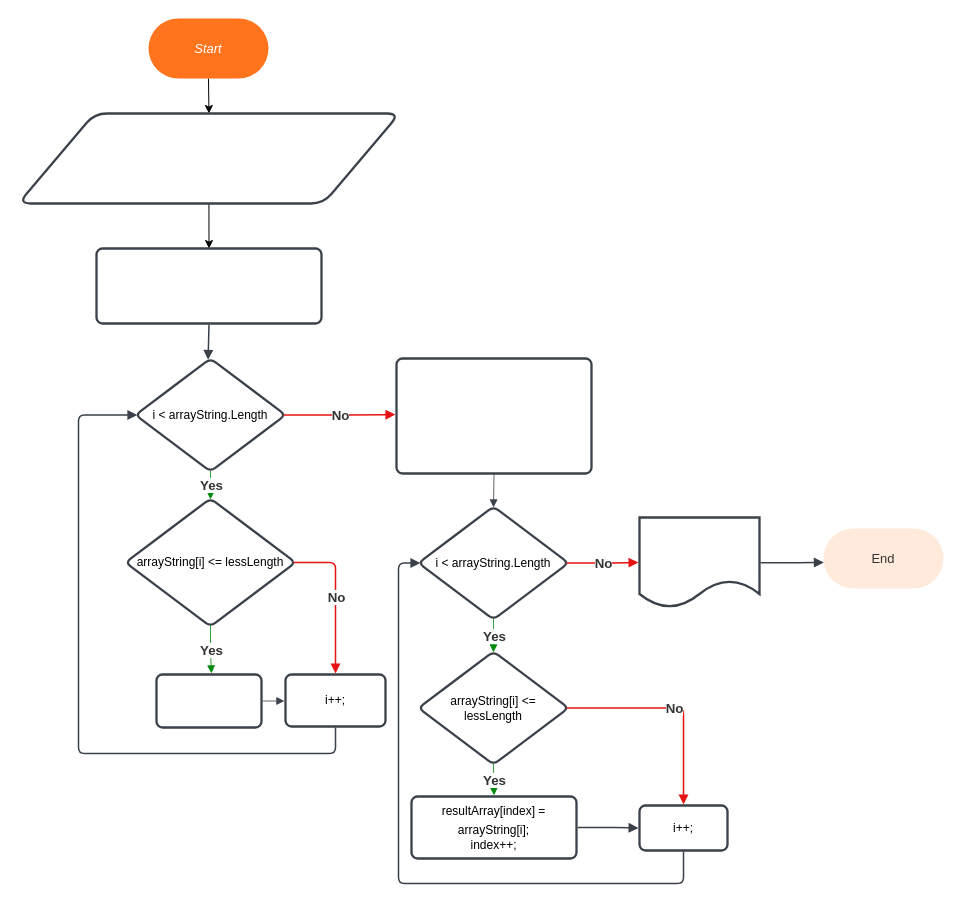
This 962x909 diagram has some shape labels left out. The shapes that lost their labels are listed below. From the top down, each one's centre as x and y in pixels, then its label:
(208,158): string[] arrayString = {"hello", "2", "world", ":-)",":-("}; int lessLength = 3;
(208,285): int i = 0; int count = 0';
(493,415): string[] resultArray = new string[count]; int index = 0; i = 0;
(699,562): вывод resultArray[]
(208,700): count++;
